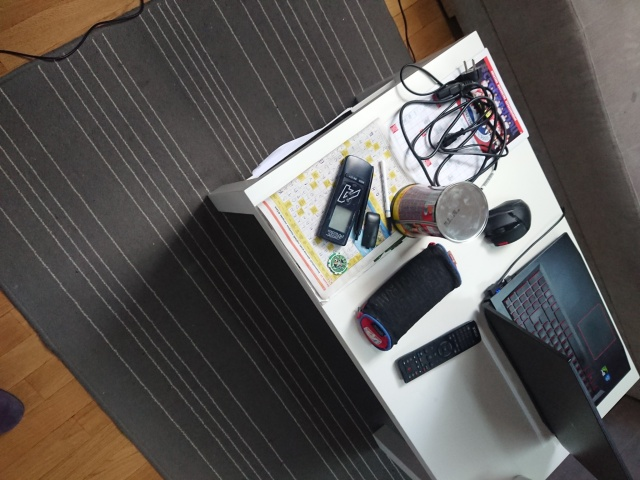Nescafe Classic 225g: (387, 178, 492, 245)
